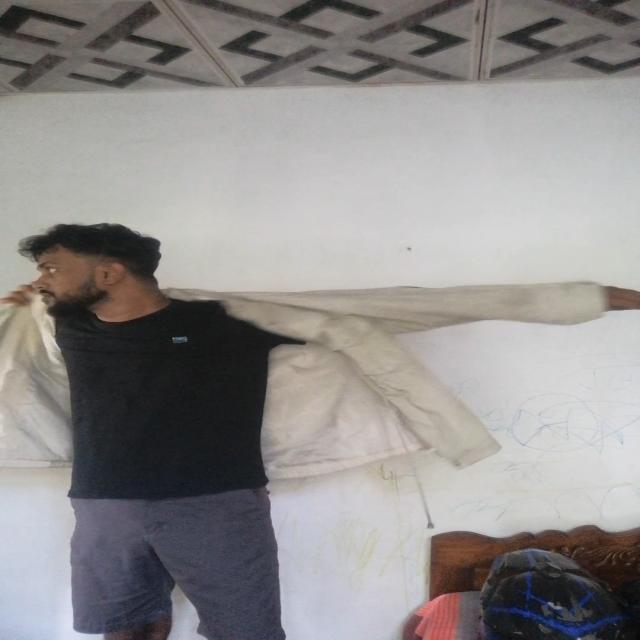Jacket_Wearer: (0, 285, 640, 497)
Person: (10, 223, 418, 635)
